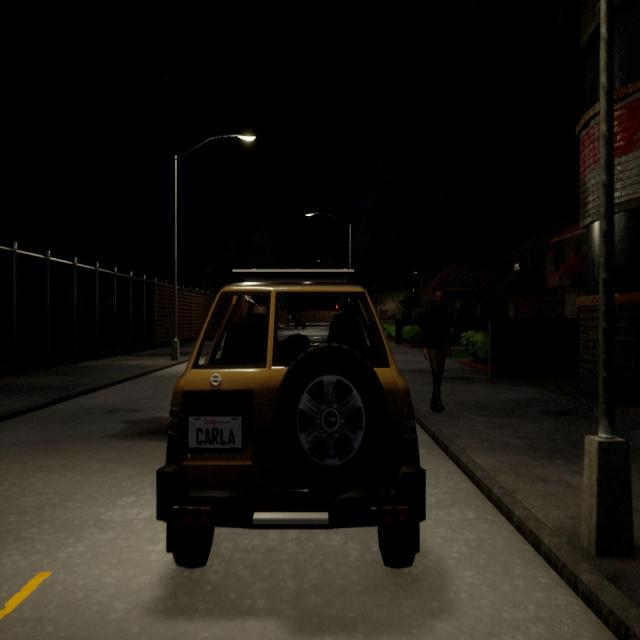Pedestrian: (422, 291, 454, 412)
Traffic_Signs: (288, 314, 292, 320)
Vehicle: (157, 268, 425, 568), (294, 316, 305, 330)
traffic_light: (336, 305, 338, 312)
